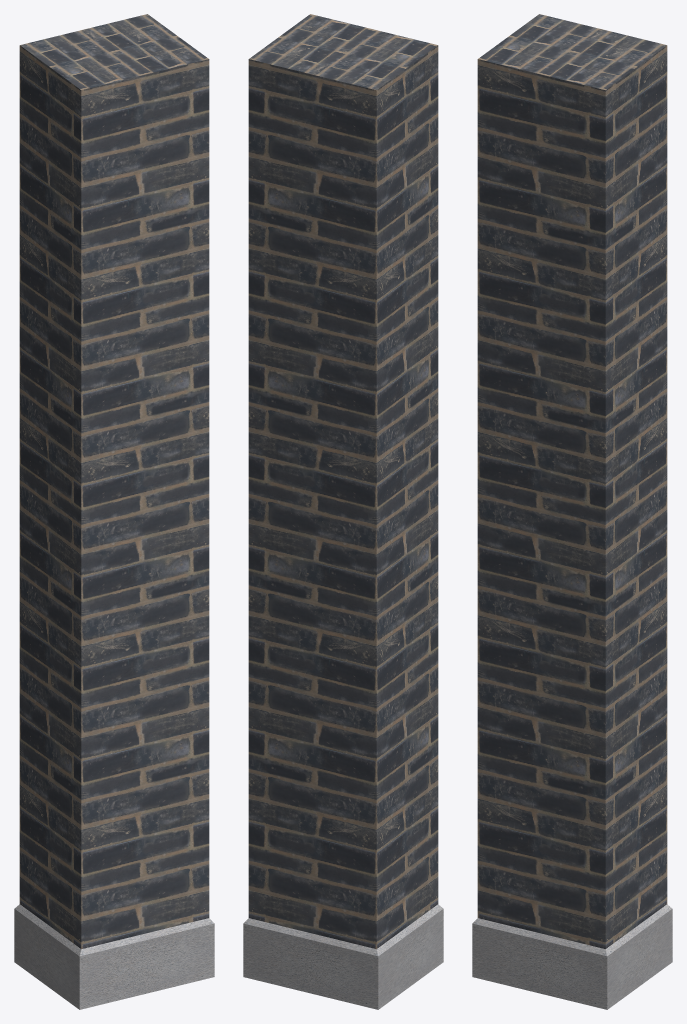
File: SM_M_Brickchimney_2.fbx
3 renders of one model, left to right at view 1: azimuth 30°, elevation 25°; view 2: azimuth 150°, elevation 25°; view 3: azimuth 330°, elevation 25°, orthographic.
Parts seen in each view (by area): view 1: SM_M_Brickchimney_2; view 2: SM_M_Brickchimney_2; view 3: SM_M_Brickchimney_2.
Boxes of the visible parts, left/top/right/bottom form: SM_M_Brickchimney_2: left=14, top=14, right=214, bottom=1009; SM_M_Brickchimney_2: left=243, top=14, right=443, bottom=1009; SM_M_Brickchimney_2: left=472, top=14, right=672, bottom=1009.
Bounding box in the file's own units: 91.1 × 76.26 × 592.
2 materials, 2 textured.
